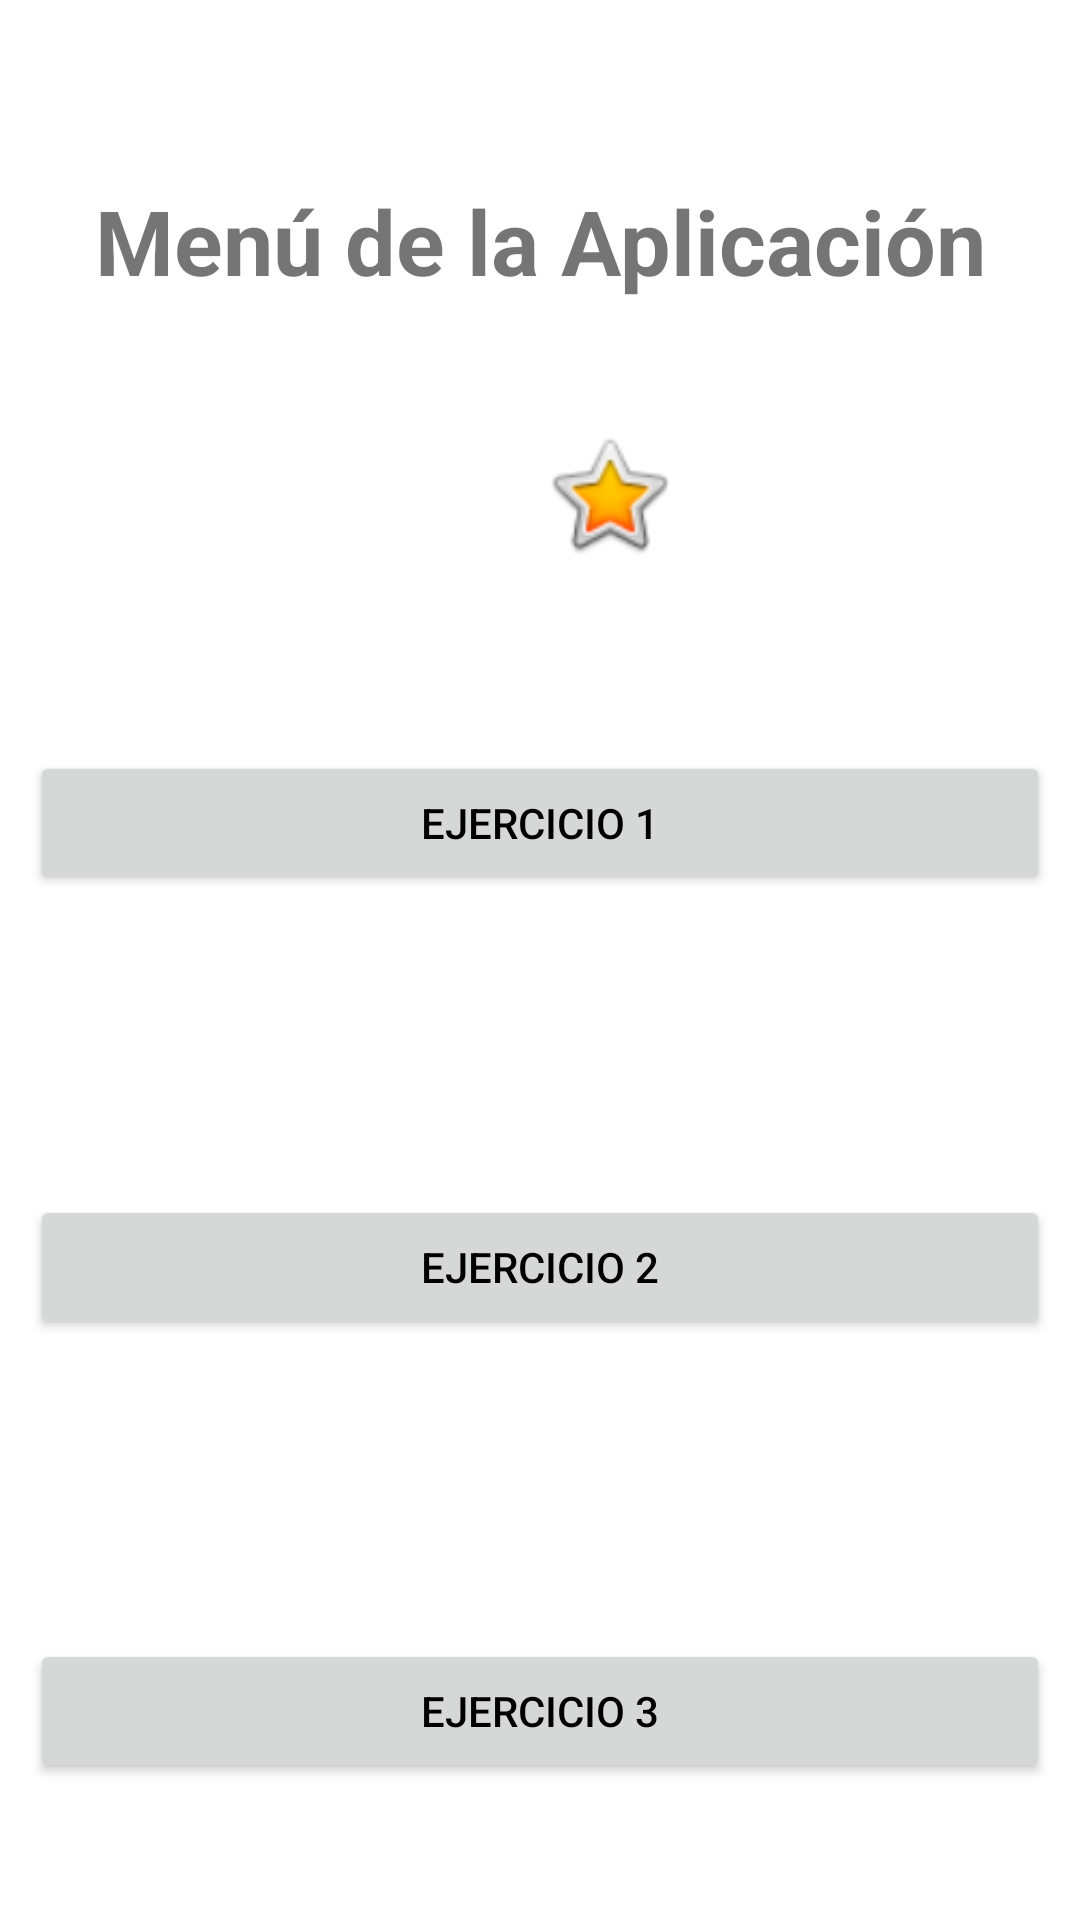

Point at icon controls on the screen. Image size 1080px x 1920px, points as (x,y).
star on: (610,495)
